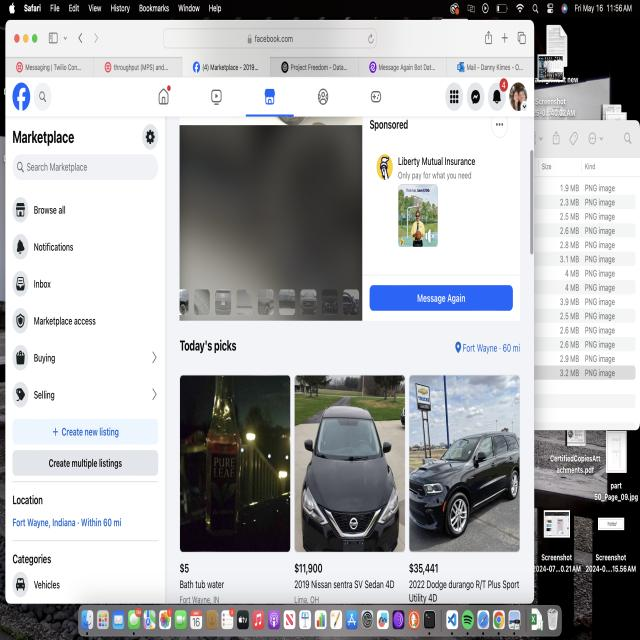message_button: (372, 288, 511, 307)
